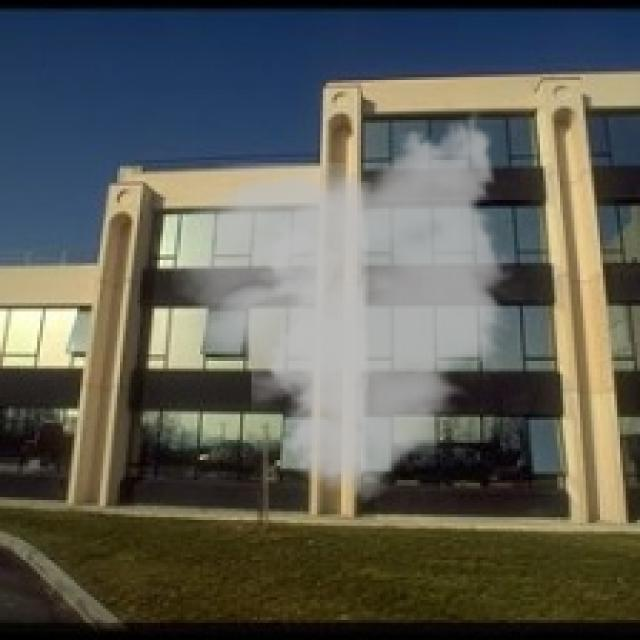Smoke: (172, 100, 517, 514)
